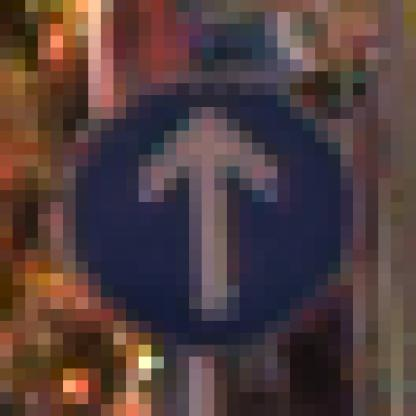AheadOnly: (64, 60, 354, 346)
